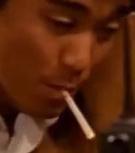smoke: (60, 88, 96, 140)
